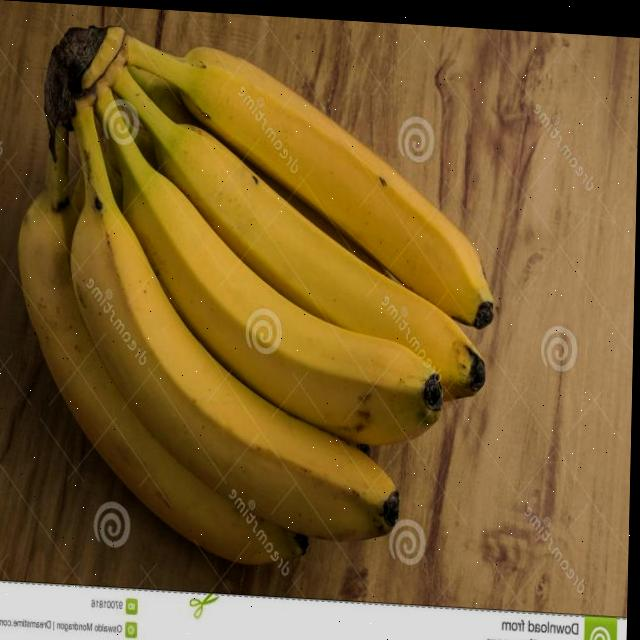banana: (6, 13, 506, 587)
